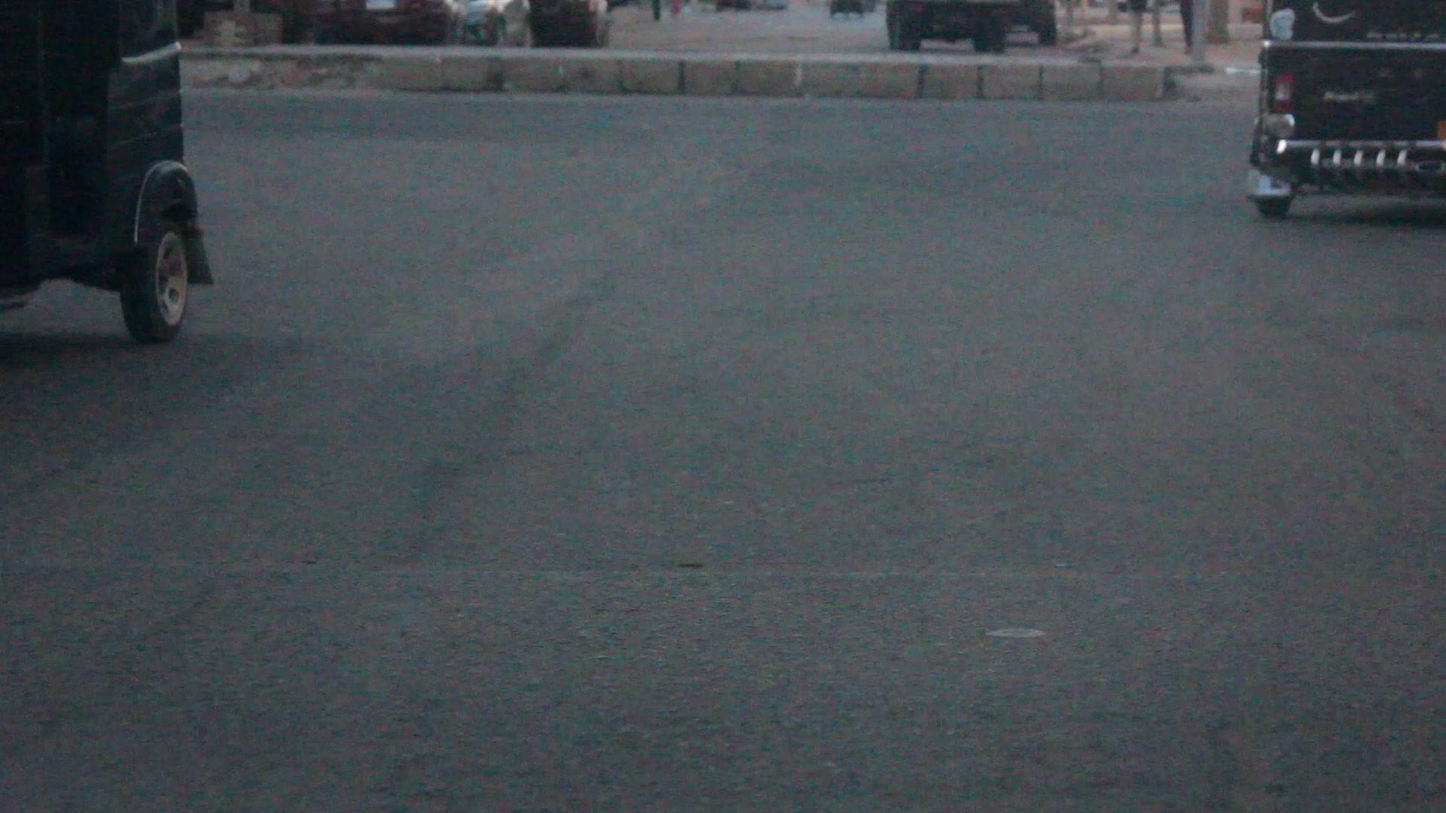Bump: (4, 546, 1446, 813)
